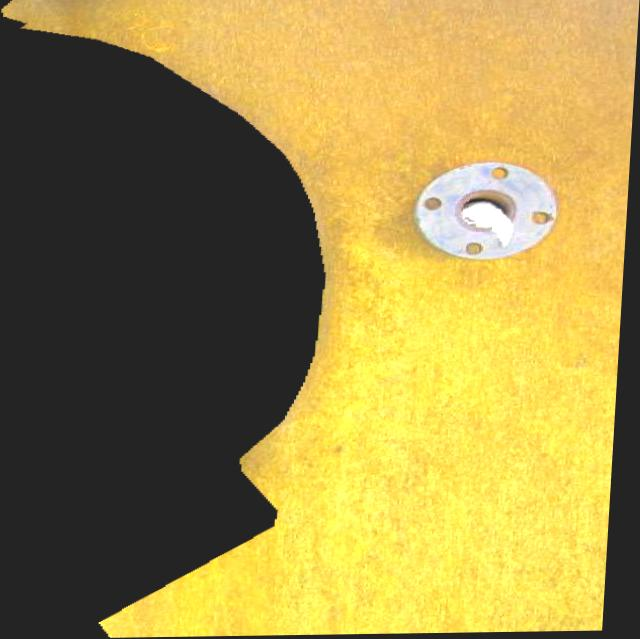Uniform Corrosion: (1, 0, 640, 638)
